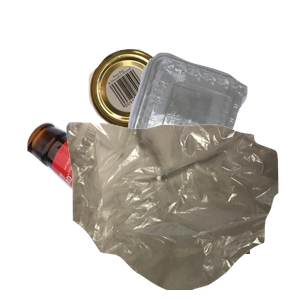glass: (25, 120, 265, 300)
metal: (86, 46, 248, 169)
plastic: (123, 50, 300, 214)
trash: (64, 120, 300, 300)
